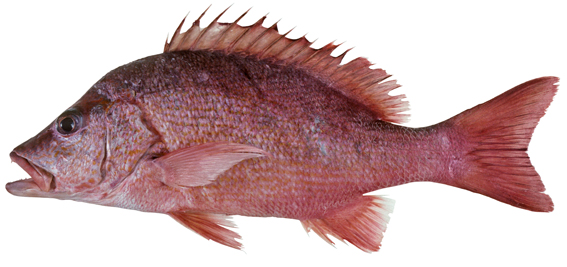fish: (6, 2, 560, 254)
